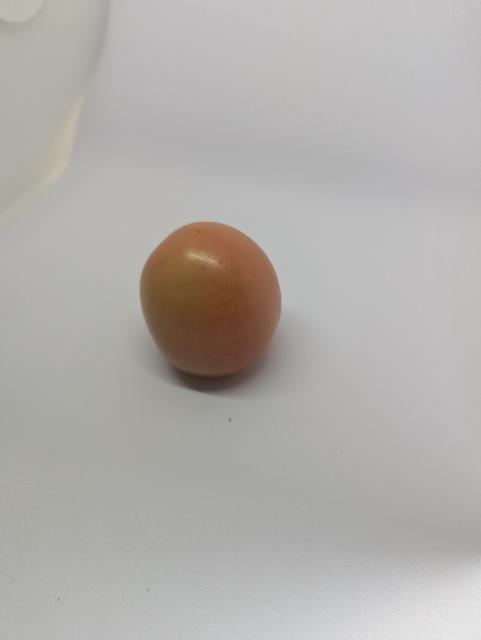turning: (133, 213, 290, 393)
